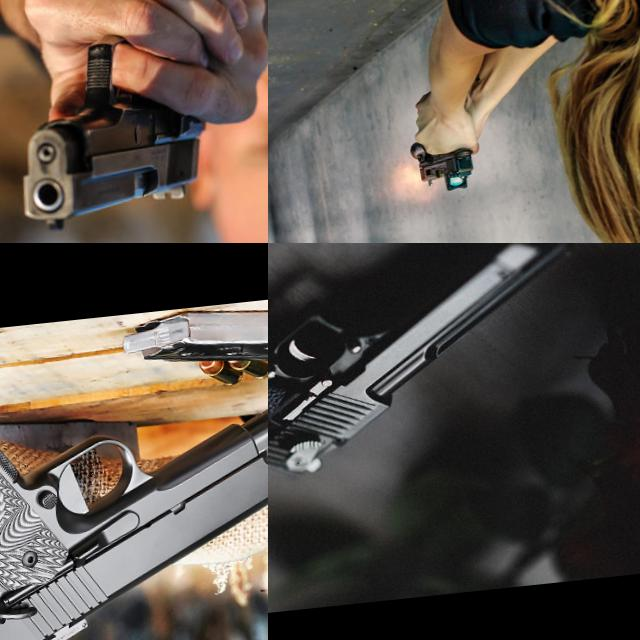handgun: (0, 298, 268, 640), (268, 243, 606, 505), (0, 30, 219, 238), (408, 144, 478, 196)
